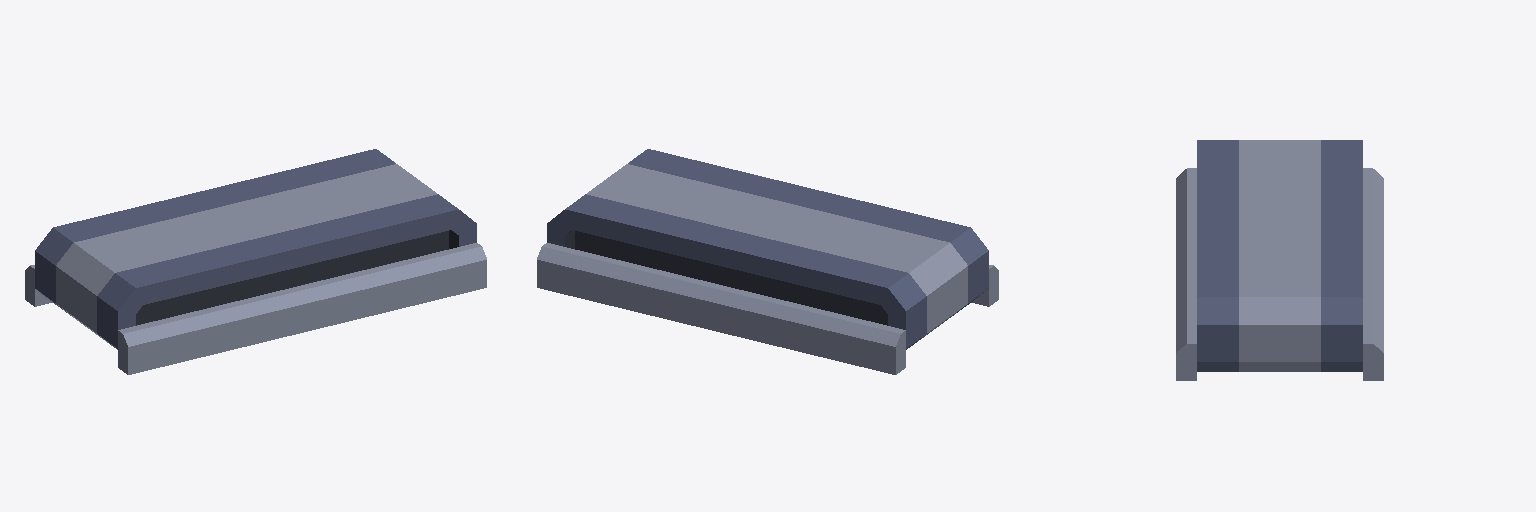
Rendered from conveyor-long-stripe-sides.obj.
3 views of the same model, side by side, from view 1: azimuth 30°, elevation 25°; view 2: azimuth 150°, elevation 25°; view 3: azimuth 270°, elevation 25° (orthographic).
Visible parts, largest first — view 1: Group; view 2: Group; view 3: Group.
Part boxes in pixels (bbox=[...]): Group: bbox=[25, 149, 486, 374]; Group: bbox=[537, 149, 998, 374]; Group: bbox=[1176, 140, 1383, 380].
Bounding box in the file's own units: 2 × 0.4 × 1.